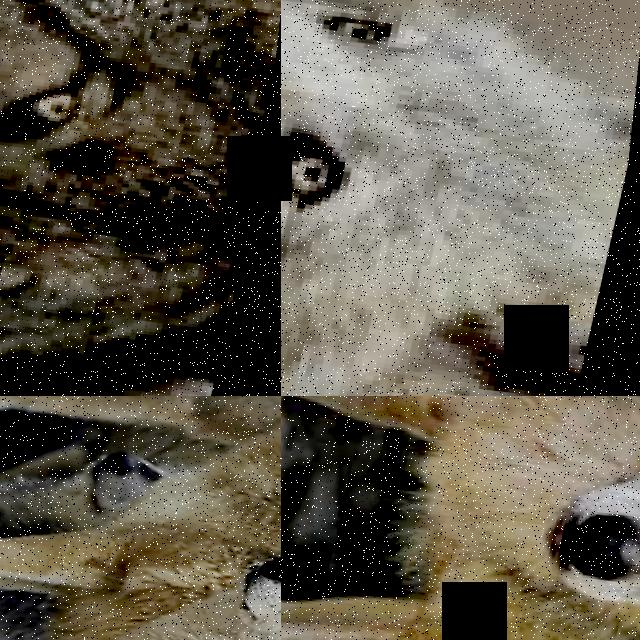wolf: (281, 0, 640, 396), (0, 0, 281, 396), (281, 396, 640, 640), (0, 396, 281, 640), (46, 526, 281, 640)
